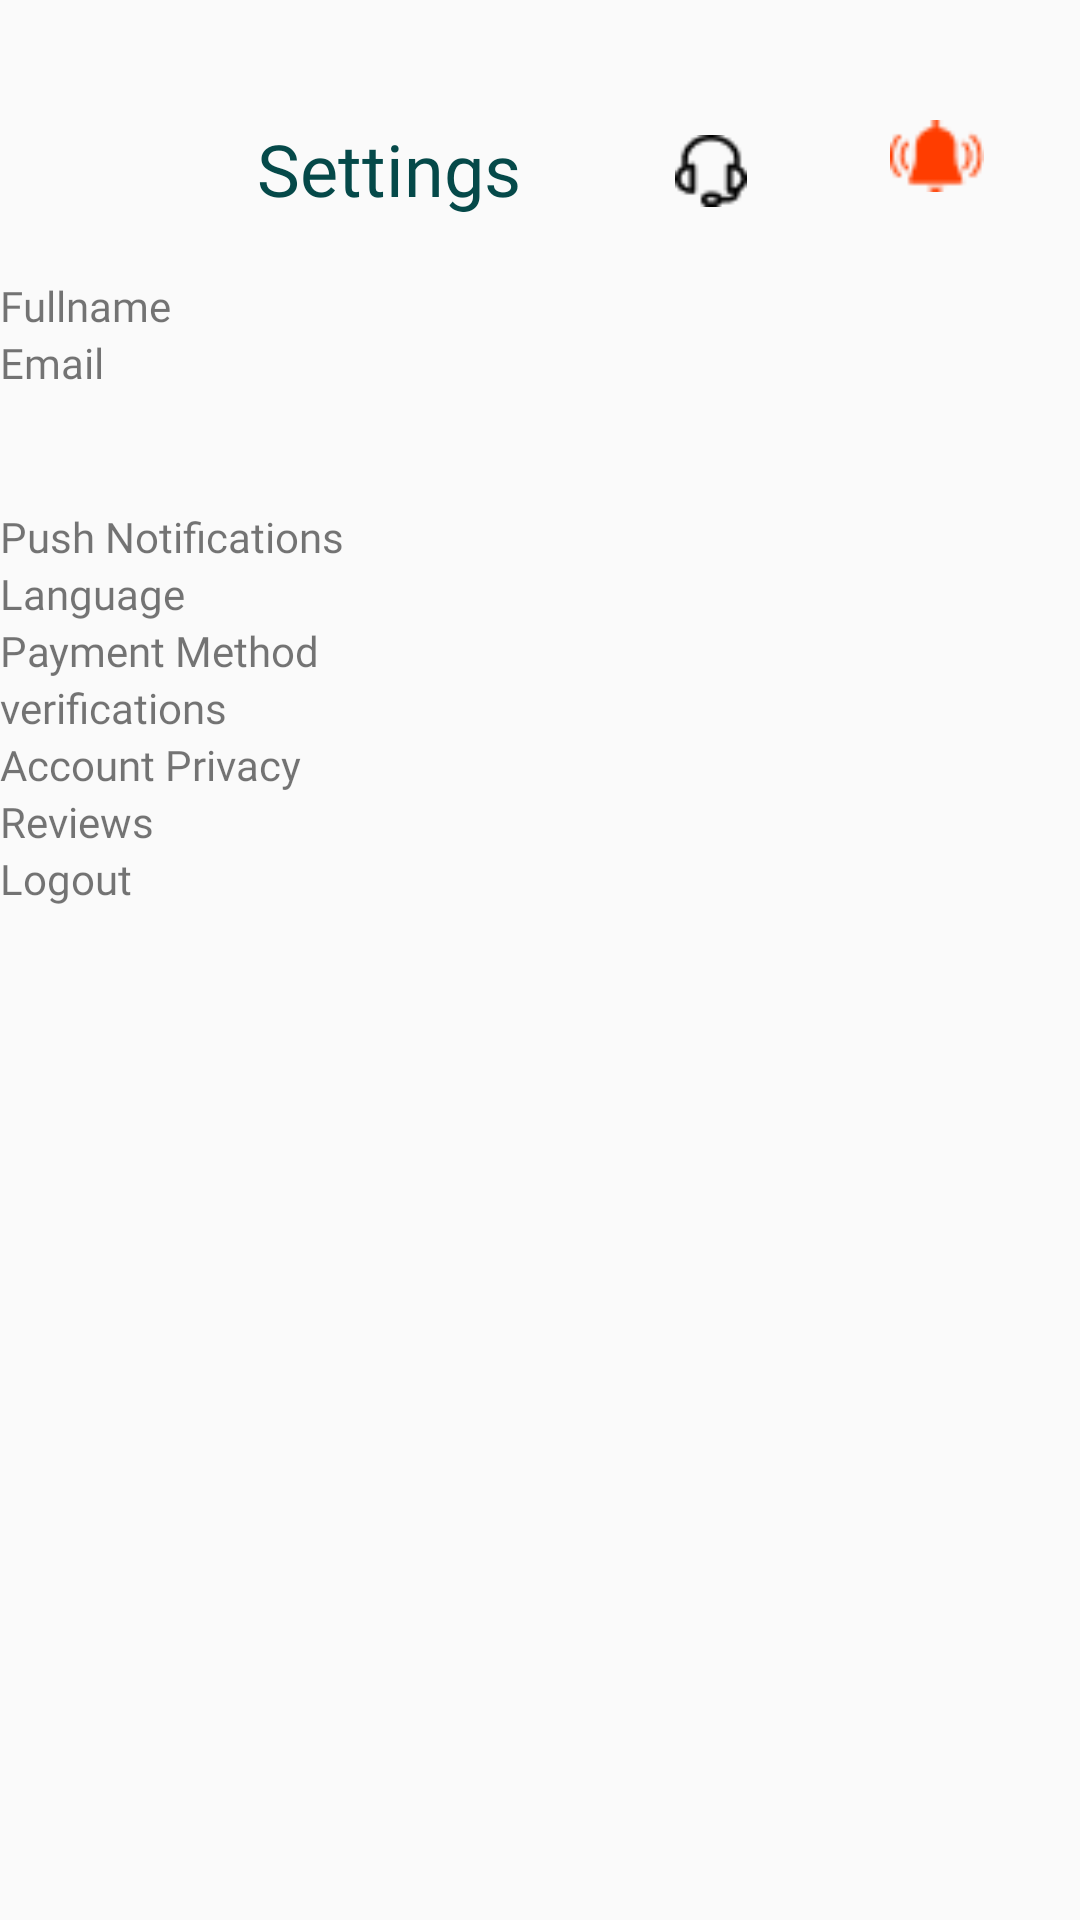

Icon bounding boxes for this 1080px×1920px phone screenshot, format (x1, y1, x2, y2):
bell: (890, 120, 984, 192)
support: (675, 135, 747, 207)
